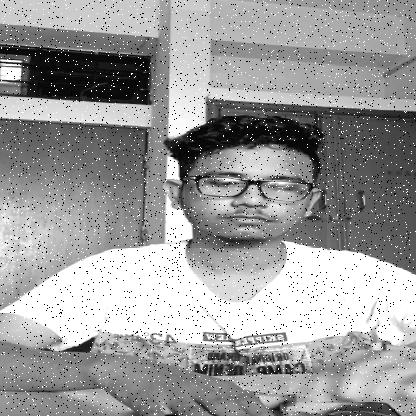Normal: (185, 134, 327, 248)
